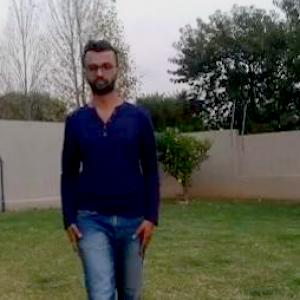follow: (64, 37, 152, 298)
